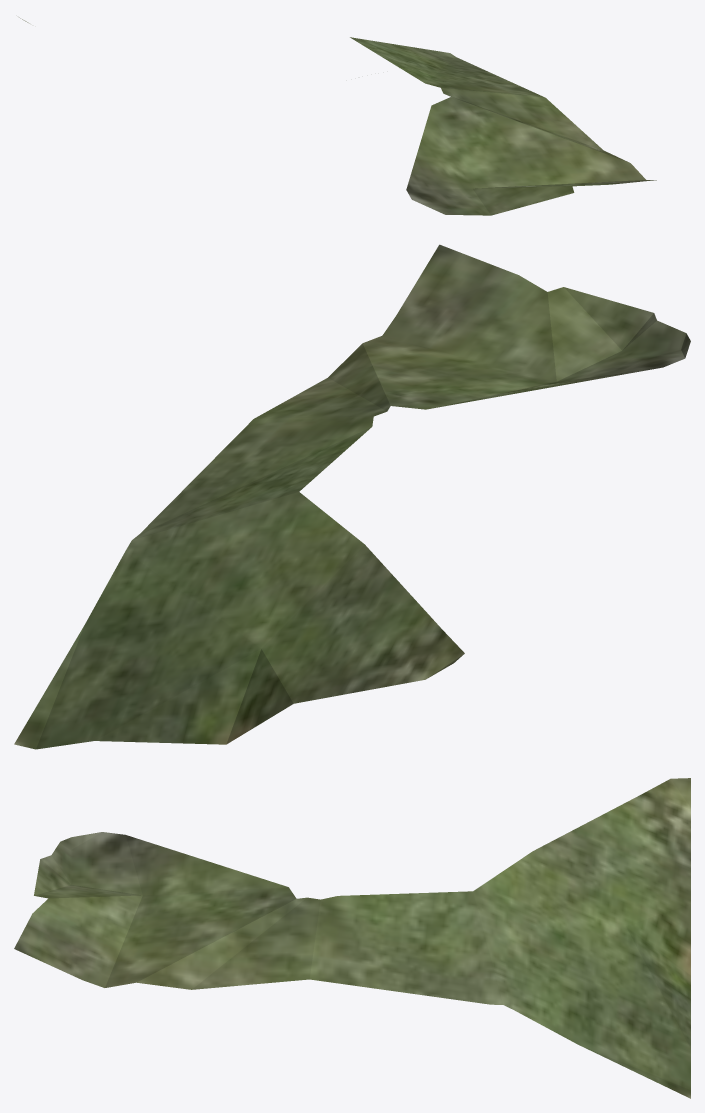
3 views of the same model, one above another, from view 1: azimuth 30°, elevation 25°; view 2: azimuth 150°, elevation 25°; view 3: azimuth 270°, elevation 25° (orthographic). The views are drawn at different scales.
Bounding box in the file's own units: 1.16 × 0.4742 × 1.94.
1 material, 1 textured.
